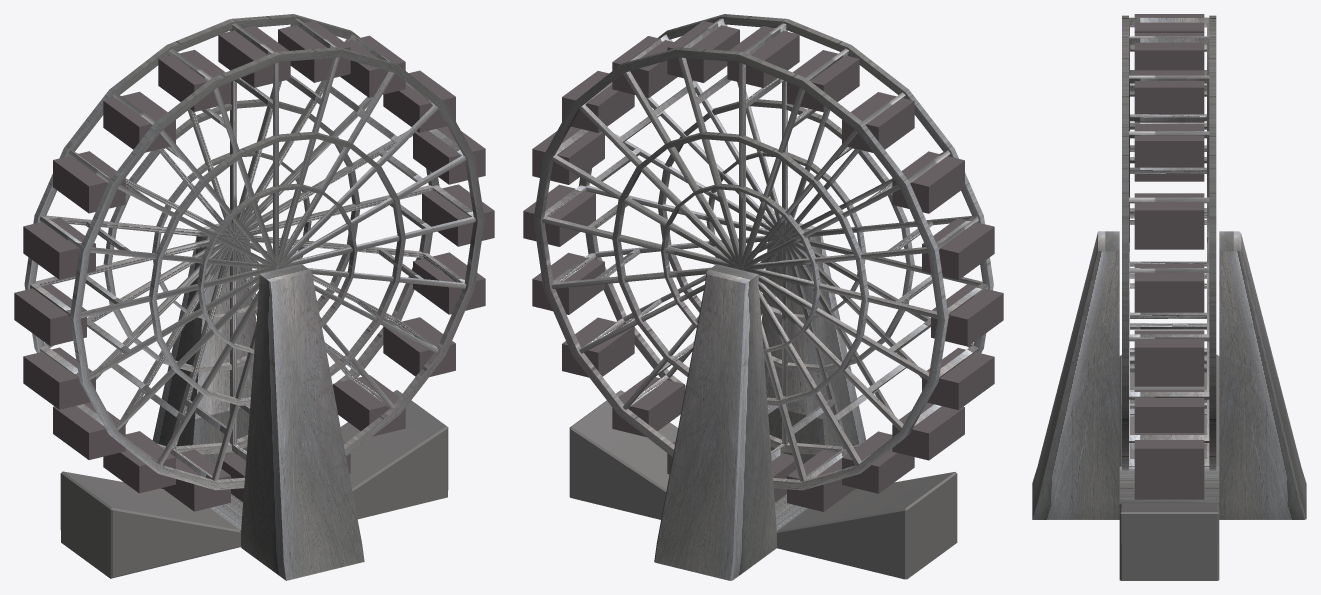
The model's file is ferris_wheel_model.fbx.
The picture shows the model from 3 angles, left to right: view 1: azimuth 30°, elevation 25°; view 2: azimuth 150°, elevation 25°; view 3: azimuth 270°, elevation 25°; orthographic projection. The views are drawn at different scales.
Visible parts, largest first — view 1: ferris_wheel; view 2: ferris_wheel; view 3: ferris_wheel.
Boxes of the visible parts, <box> form: ferris_wheel: <box>14,14,494,580</box>; ferris_wheel: <box>523,14,1003,580</box>; ferris_wheel: <box>1032,14,1306,580</box>.
Bounding box in the file's own units: 3.02 × 3.13 × 1.67.
3 materials, 1 textured.
